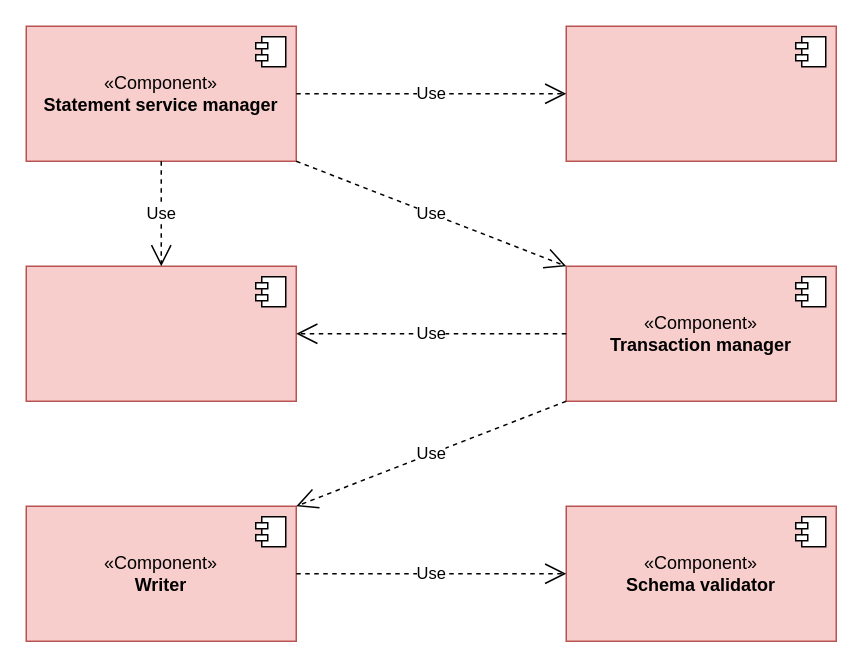
Image size: 863x668. Some labels were removed from this diagram. Here are the shapes that lost their labels. From the top down, the centre of each, then its label:
At point 700,93: "«Component» Semantic validator".
At point 160,333: "«Component» Reader".
